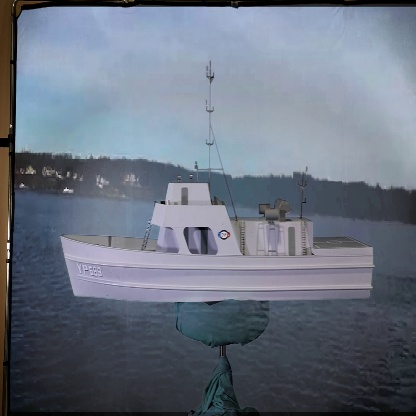YP689: (57, 61, 376, 304)
